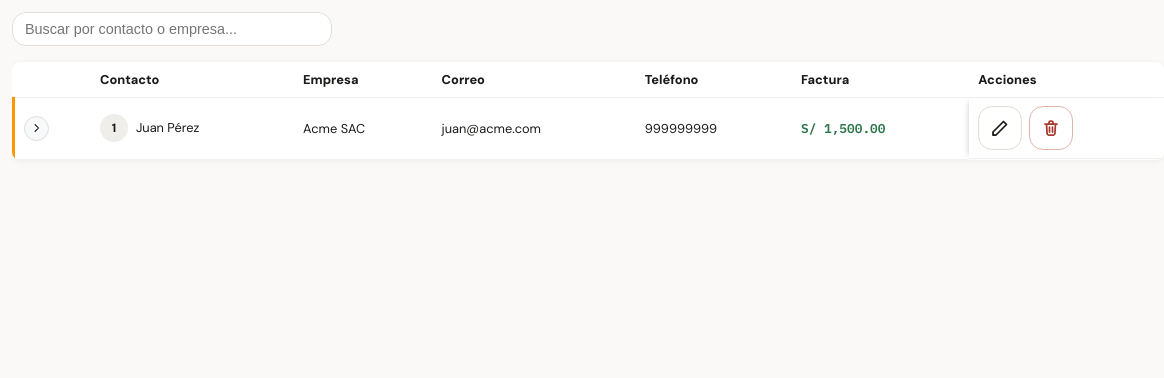
LeadsTable › conteo del título de seguimientos › con 3 seguimientos, el título dice "Historial de seguimientos" y el contador muestra "3"
This screenshot has width=1164, height=378.
Click the button with class "leads-table__boton-expandir" at x=37, y=128, box [24,116,49,141]
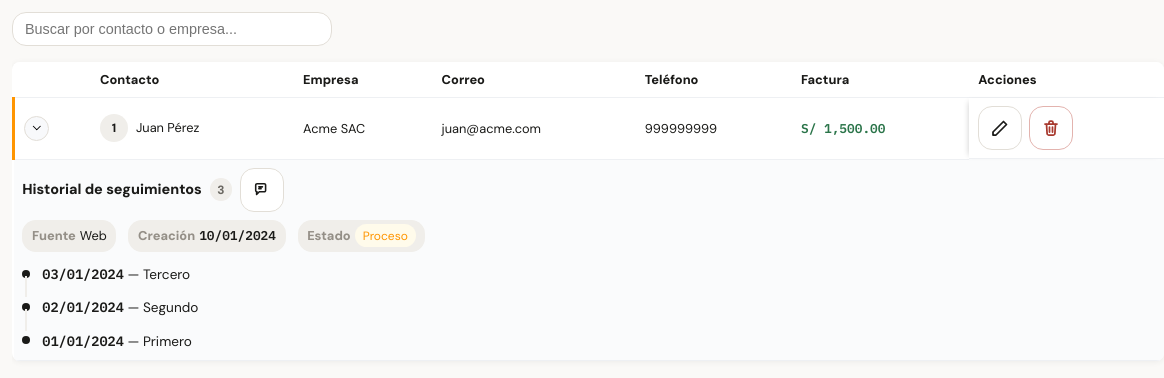
Result: the heading with class "leads-table__historial-titulo" reads "Historial de seguimientos" at [22,180,202,198]
Result: the text with class "leads-table__historial-contador" reads "3" at [217,182,225,198]
